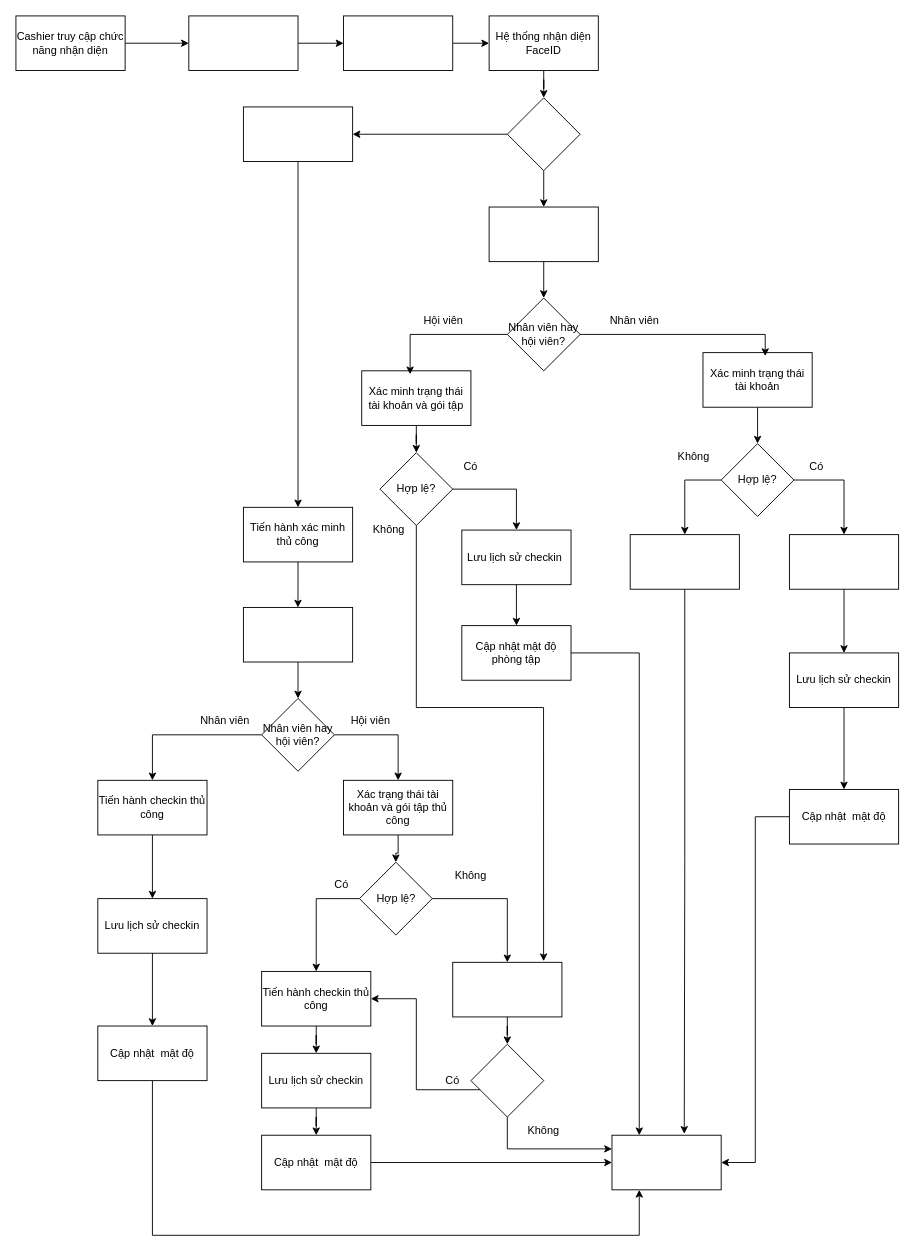
This 915x1259 diagram has some shape labels left out. The centre of each missing label's shape, as x and y in pixels:
"Camera phát hiện khuôn mặt" goes at (398,43).
"Cho phép vào phòng" goes at (844,561).
"Hệ thống mở Camera nhận diện ở tab mới" goes at (243,43).
"Khách gia hạn?" goes at (507,1080).
"Kết thúc" goes at (666,1162).
"Thành công?" goes at (543,134).
"Thông báo lỗi" goes at (684,561).
"Thông báo lỗi hoặc yêu cầu gia hạn gói" goes at (507,989).
"Thông báo lỗi không nhận diện được" goes at (298,134).
"Tra cứu theo SĐT" goes at (298,634).
"Xác định đối tượng" goes at (543,234).
